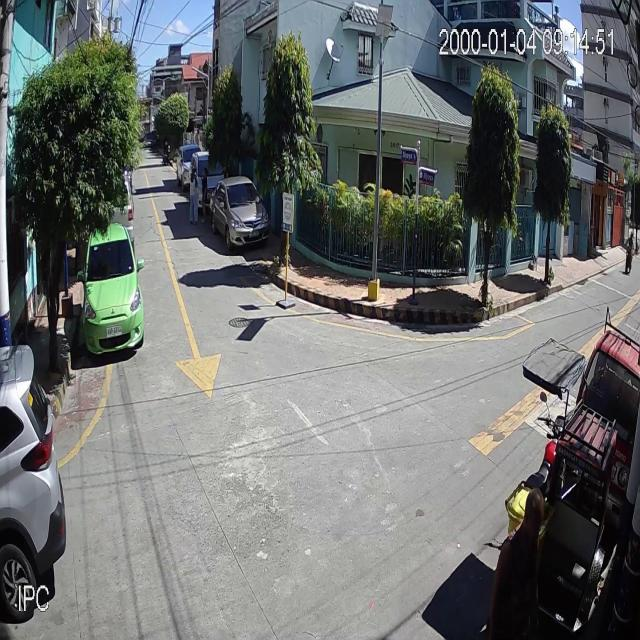walking: (486, 485, 544, 640), (190, 166, 200, 227), (200, 168, 209, 225)
